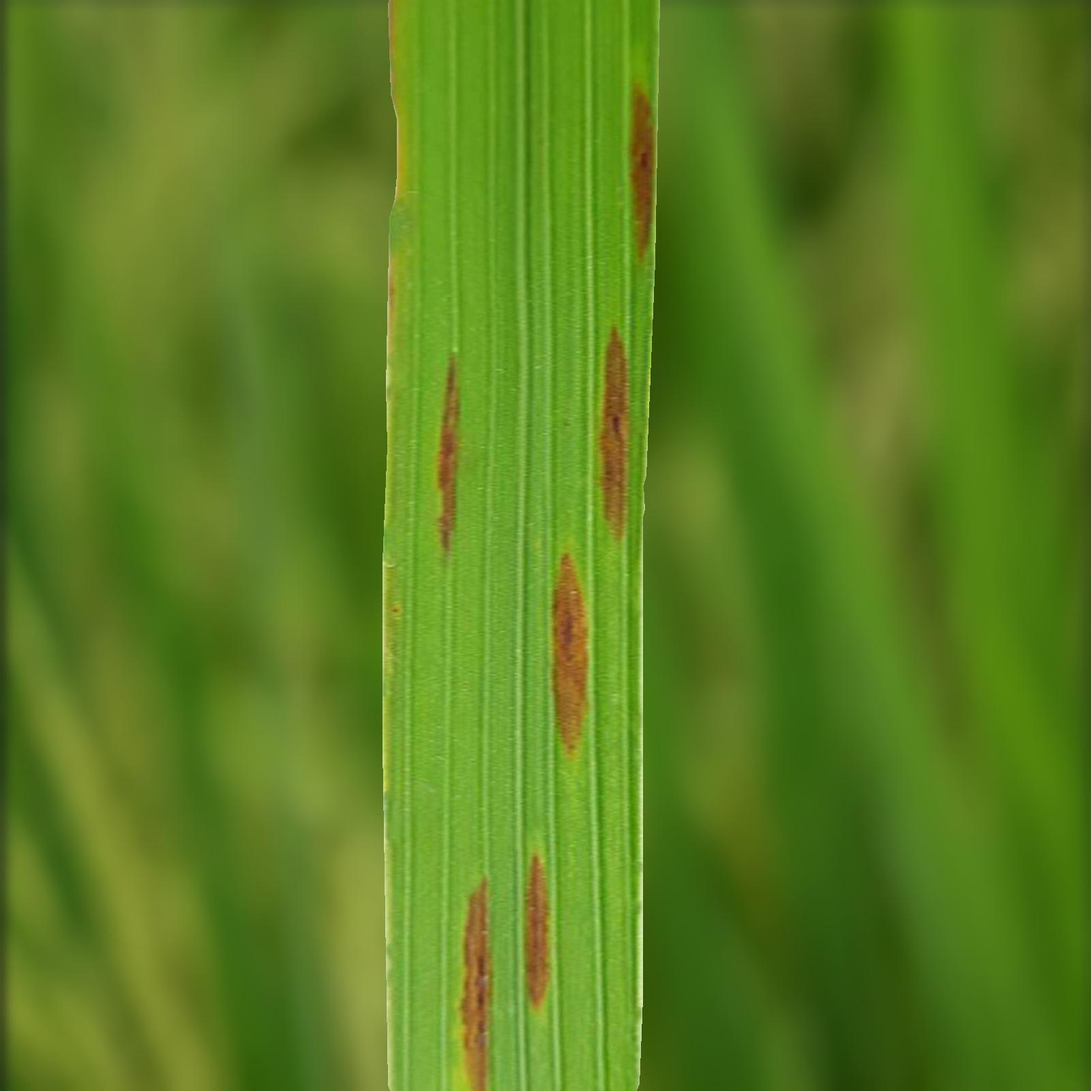LEAF: (383, 0, 659, 1090)
NBS: (553, 553, 588, 757), (461, 879, 492, 1090), (599, 327, 629, 539), (437, 355, 459, 554), (630, 86, 655, 259), (526, 853, 550, 1009)
